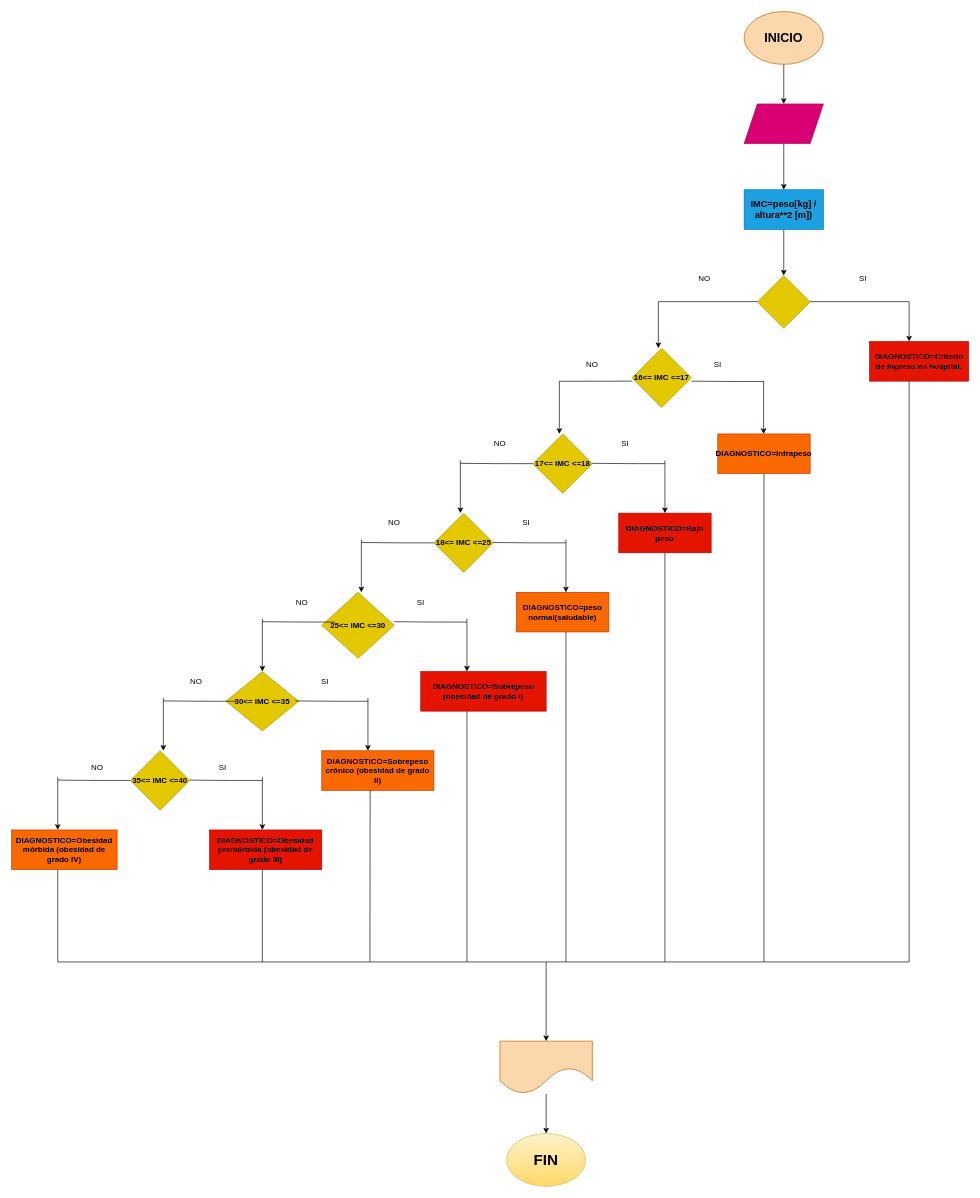
Some shapes in this 980 by 1198 pixel diagram are drawn without their labels. The box of each missing label's shape, as (x1, y1, x2, y2) in pixels:
DIAGNOSTICO: (499, 1040, 592, 1094)
IMC<16: (757, 275, 810, 328)
p=peso a=altura: (743, 103, 823, 144)
